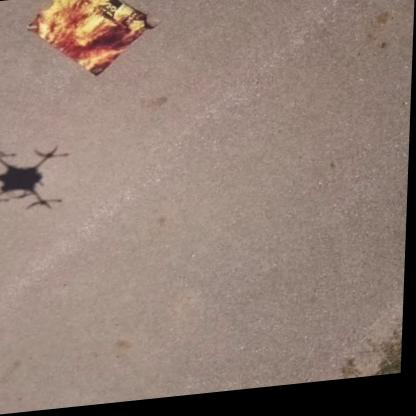fire-poster: (23, 0, 160, 84)
